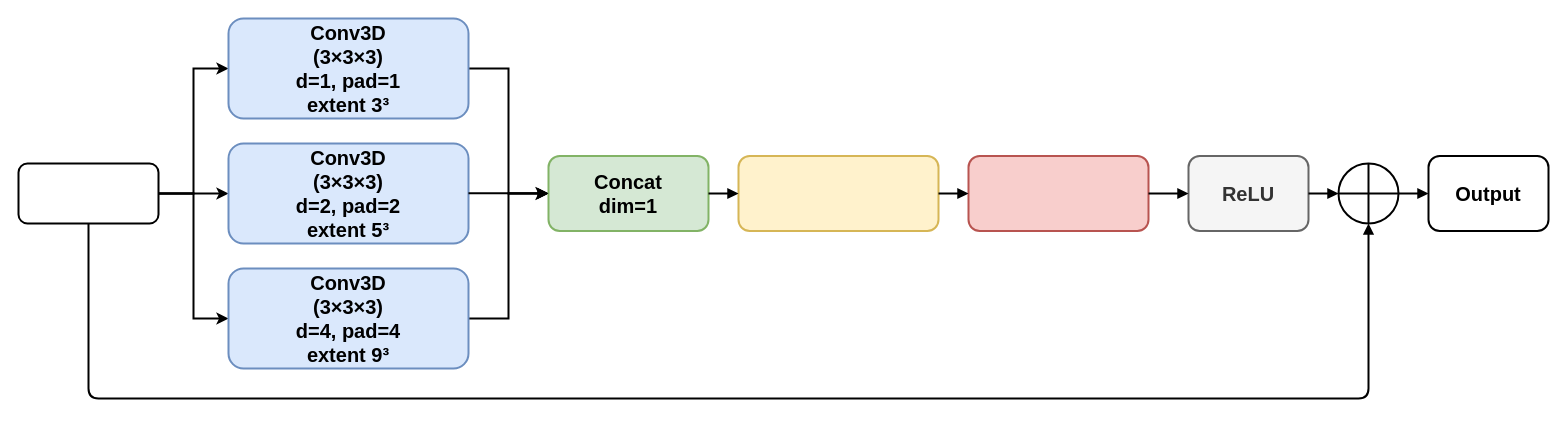
The diagram is 1566 pixels wide and 424 high, and some of its shapes have lost their labels. Each missing label, with the centre of its shape:
"Conv3D (1×1×1)" goes at pixel 838 193.
"GroupNorm 3D" goes at pixel 1058 193.
"Input" goes at pixel 88 193.
